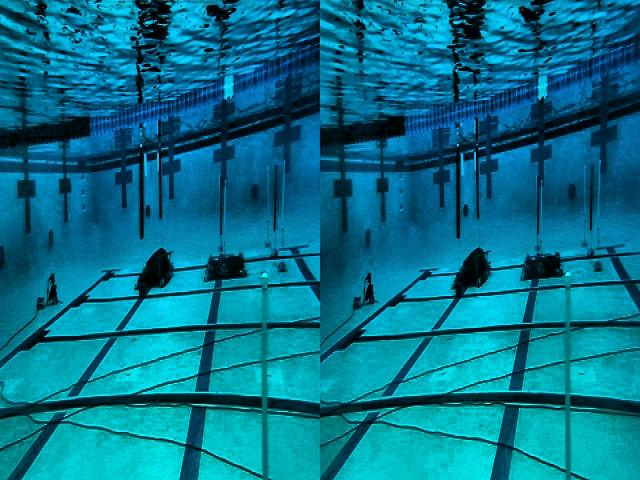gate: (455, 140, 480, 236), (139, 140, 163, 234)
path_marker: (472, 248, 490, 278), (156, 253, 174, 277)
